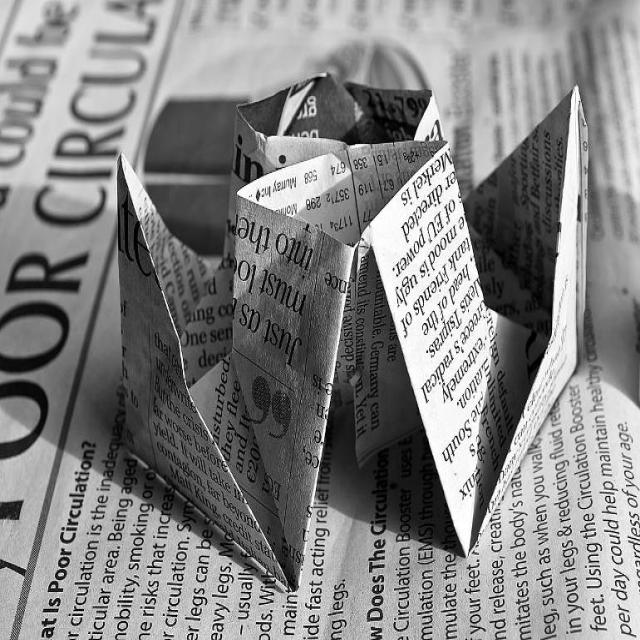newspaper: (108, 62, 600, 590)
